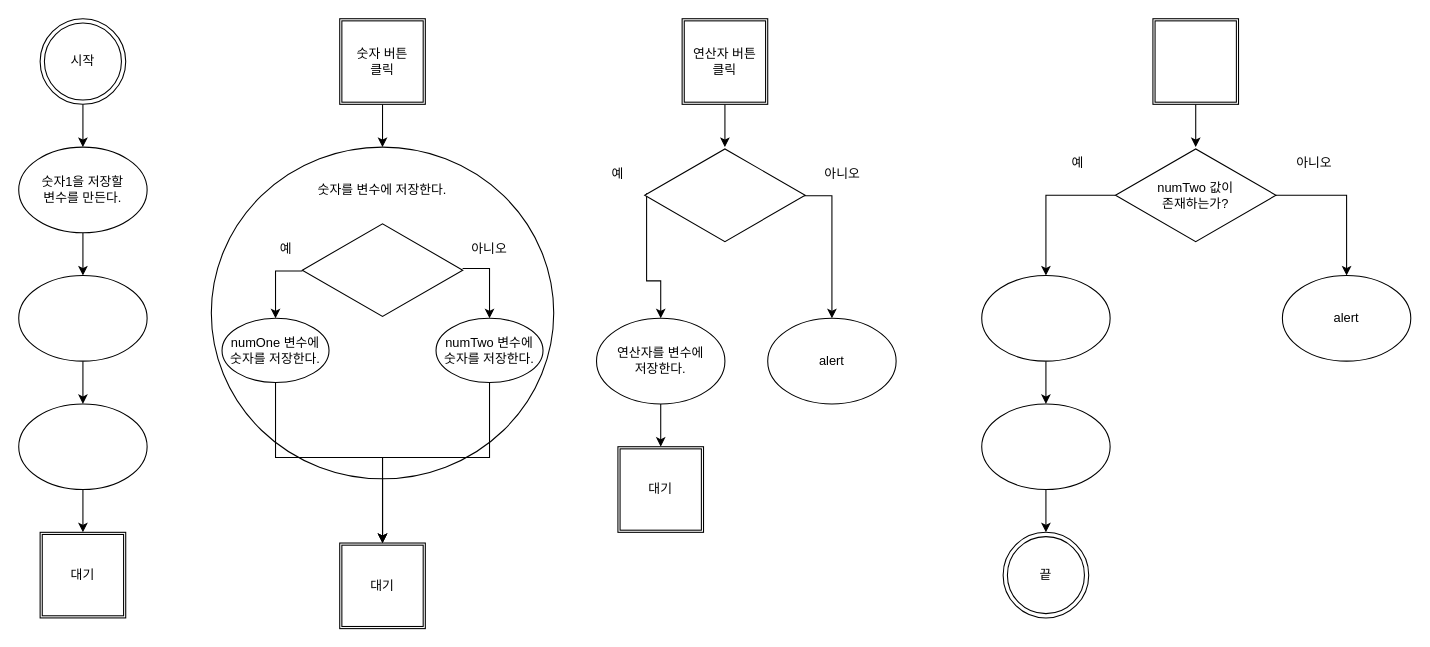
This 1430x647 diagram has some shape labels left out. The centre of each missing label's shape, as x and y in pixels:
"= 버튼 클릭" goes at (x=1195, y=61).
"numOne 값이 존재하는가?" goes at (x=724, y=194).
"operator 변수가 비어있는가?" goes at (x=382, y=269).
"계산 결과를 화면에 출력한다." goes at (x=1045, y=446).
"숫자1과 숫자2를 연산자를 적용해 계산한다." goes at (x=1045, y=317).
"숫자2를 저장할 변수를 만든다." goes at (x=82, y=446).
"연산자를 저장할 변수를 만든다." goes at (x=82, y=317).
